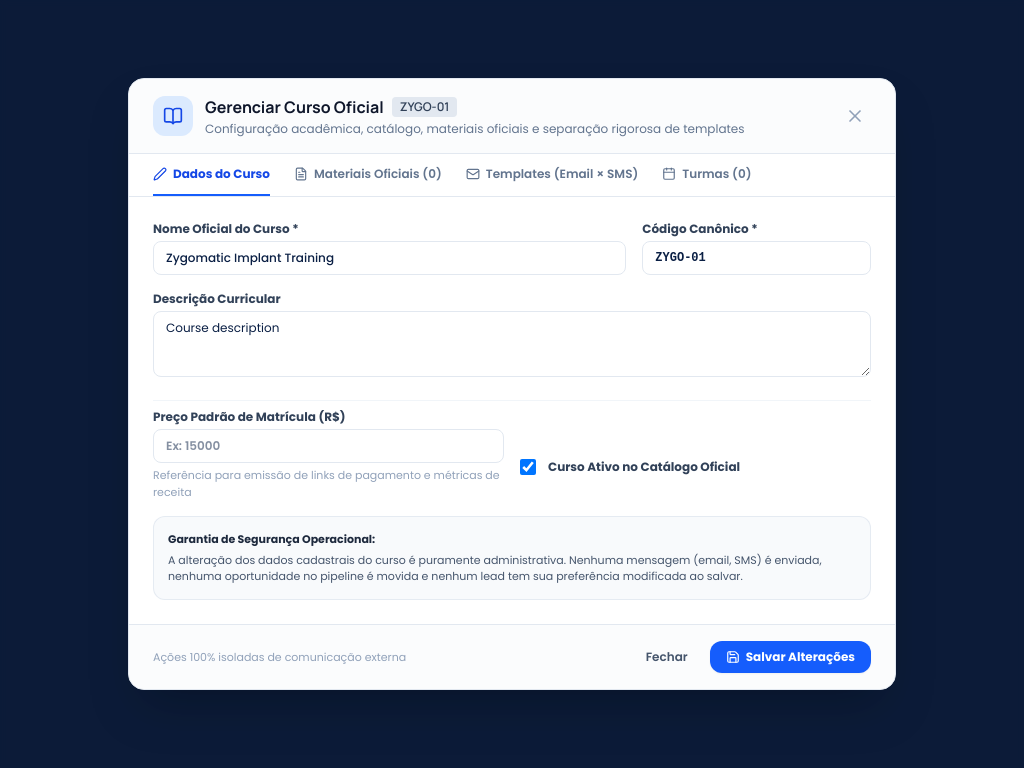
Test: COHORTS / TURMAS + PIPELINE LAST EMAIL STATUS (Items A to Y) › Course Cohort Management (Items A - G) › A. renders cohorts strictly for the correct course and supports turma creation
This screenshot has width=1024, height=768.
// Switch to Turmas tab
Click the button "Turmas (0)". click: (707, 175)
box: [662,154,752,196]
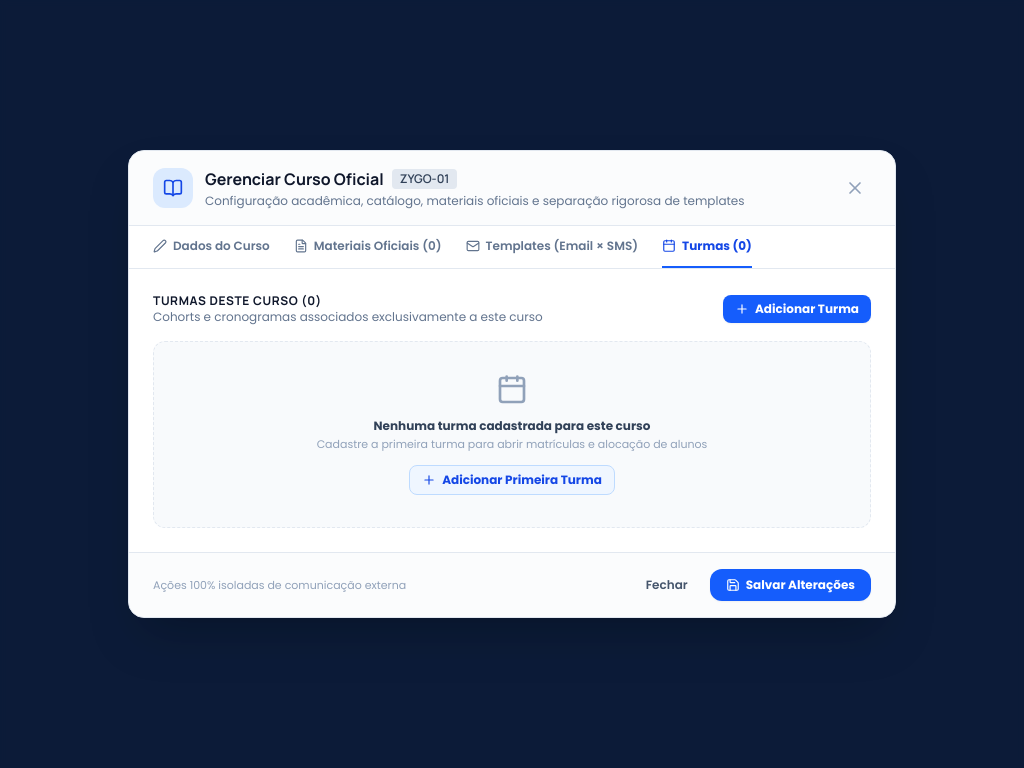
Expected: the text "Adicionar Turma" is shown, [755,301,859,317]
// Open new turma form
Click the button "Adicionar Turma". click: (797, 309)
box: [723,295,871,323]
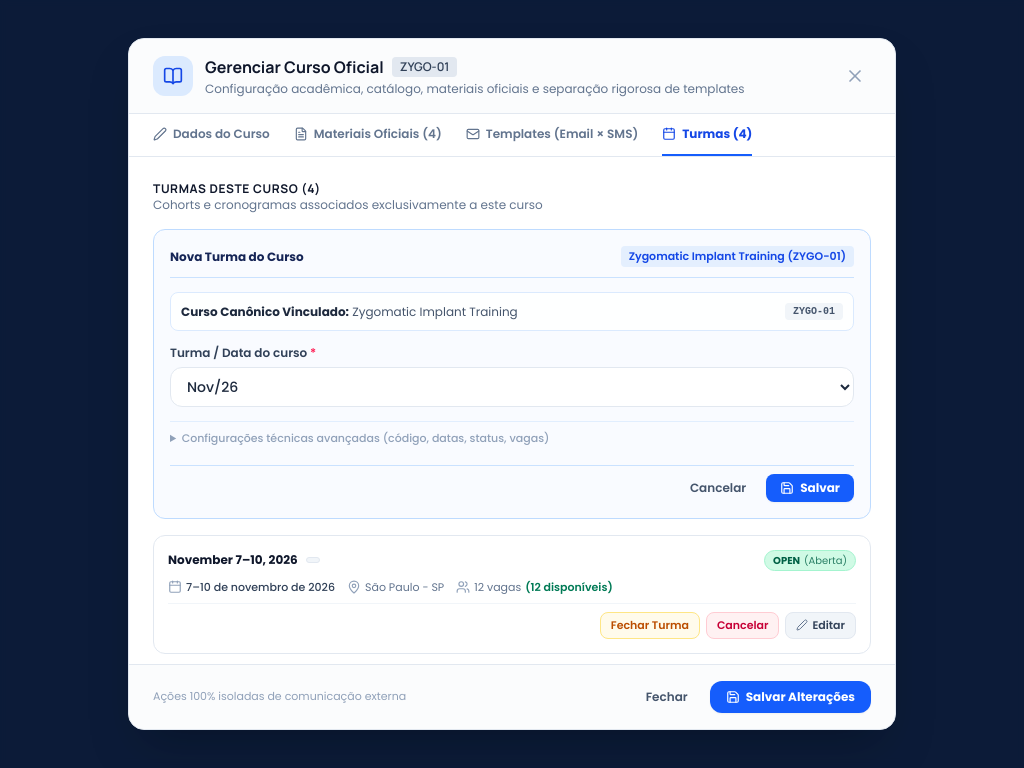
Expected: the text "Nova Turma do Curso" is shown, [170,249,304,265]
Expected: the text "Curso Canônico Vinculado:" is shown, [181,303,349,320]
